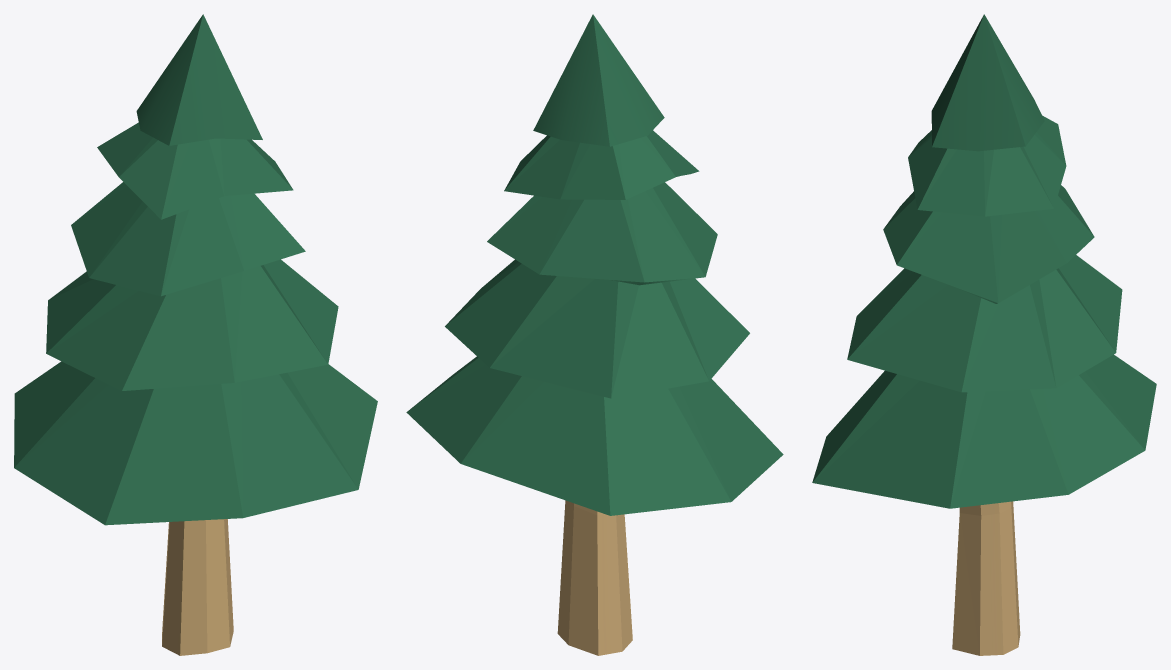
File: sapinfonce.FBX
3 renders of one model, left to right at view 1: azimuth 30°, elevation 25°; view 2: azimuth 150°, elevation 25°; view 3: azimuth 270°, elevation 25°, orthographic.
Visible parts, largest first — view 1: Pyramid001; view 2: Pyramid001; view 3: Pyramid001.
Part boxes in pixels (x1,y1,x2,y2): Pyramid001: (14, 14, 377, 655); Pyramid001: (406, 14, 783, 655); Pyramid001: (812, 14, 1156, 655).
Bounding box in the file's own units: 78.9 × 147 × 72.47.
